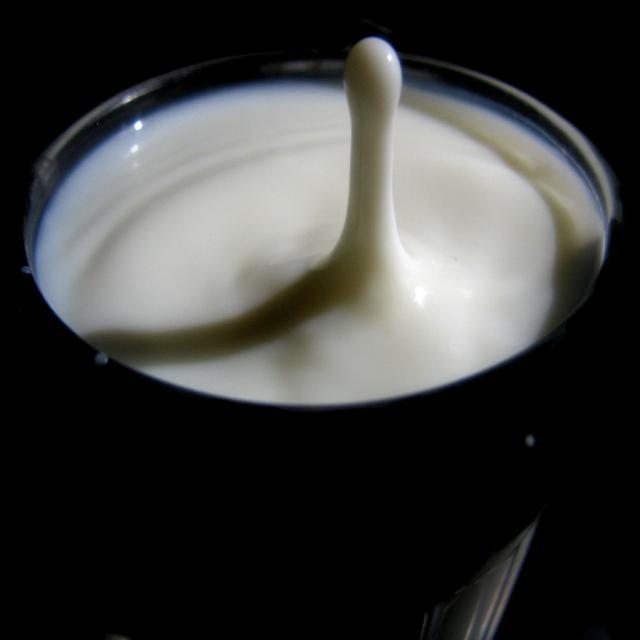Milk: (37, 36, 607, 409)
